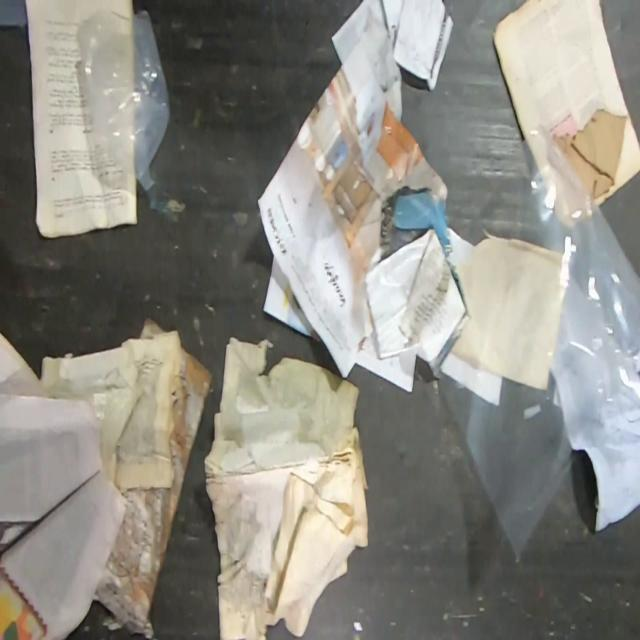cardboard: (94, 345, 216, 640), (138, 314, 167, 339)
soft_plastic: (435, 119, 640, 565), (76, 7, 170, 183), (392, 191, 450, 251)
